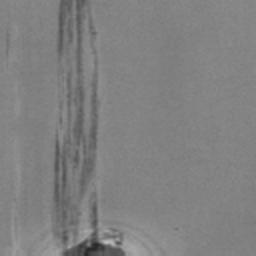Slag inclusion: (50, 0, 128, 256)
